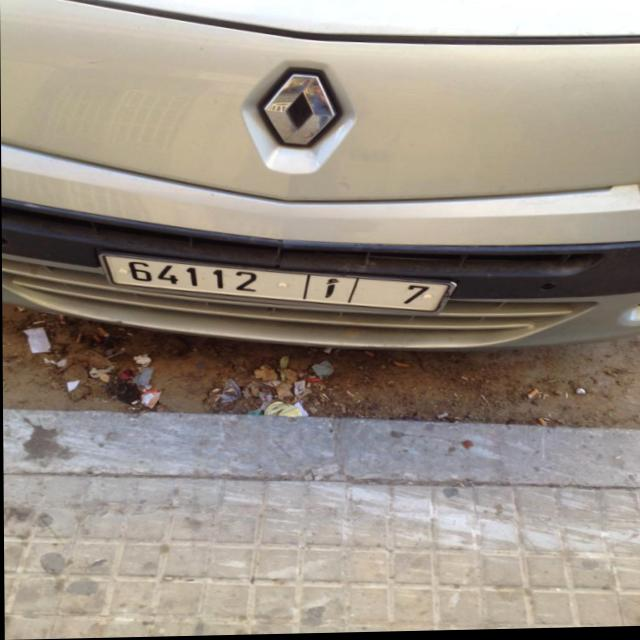License-Plate: (100, 254, 453, 314)
